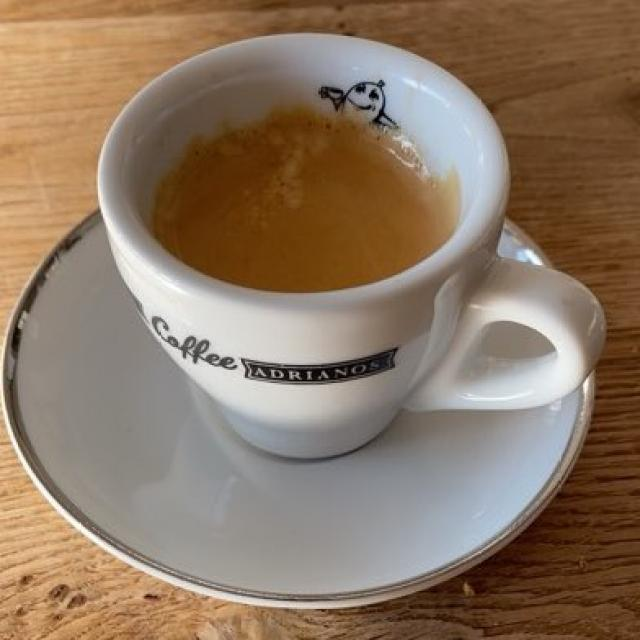risotto: (156, 107, 455, 287)
